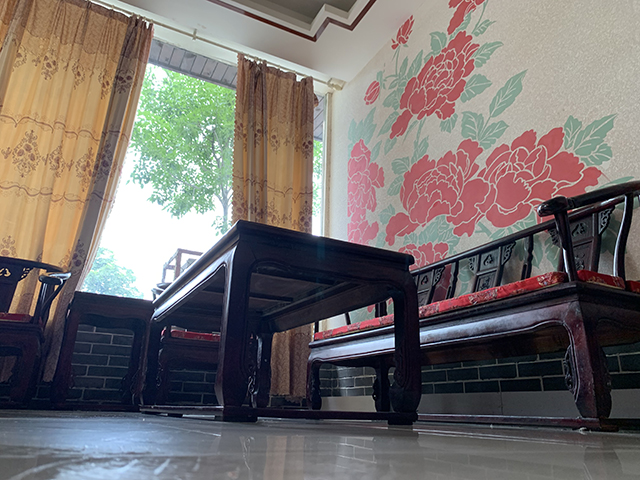curtain: (235, 52, 313, 405)
sofa: (307, 179, 640, 424), (1, 255, 72, 411)
table: (142, 218, 424, 430), (54, 288, 152, 414)
